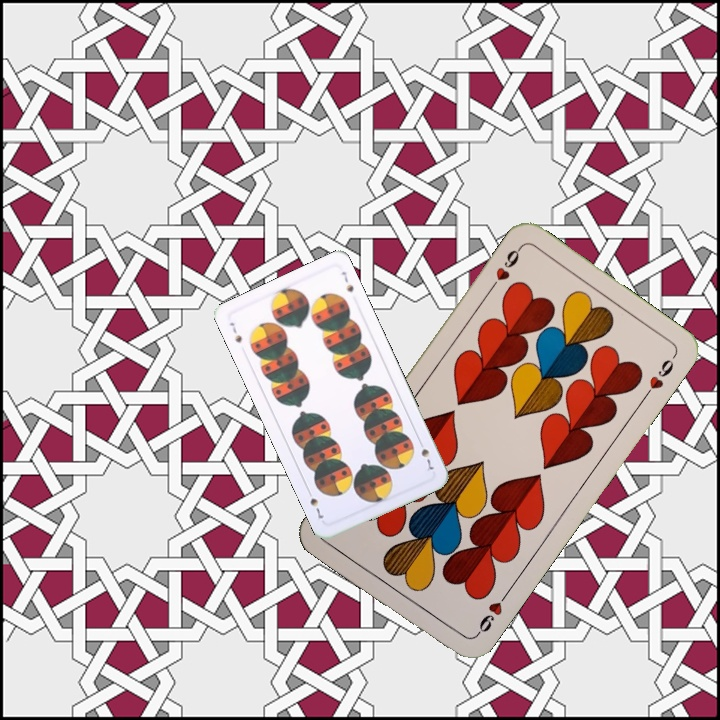H9: (485, 242, 525, 294), (471, 588, 511, 640)
S7: (414, 436, 436, 472), (225, 318, 244, 346)
